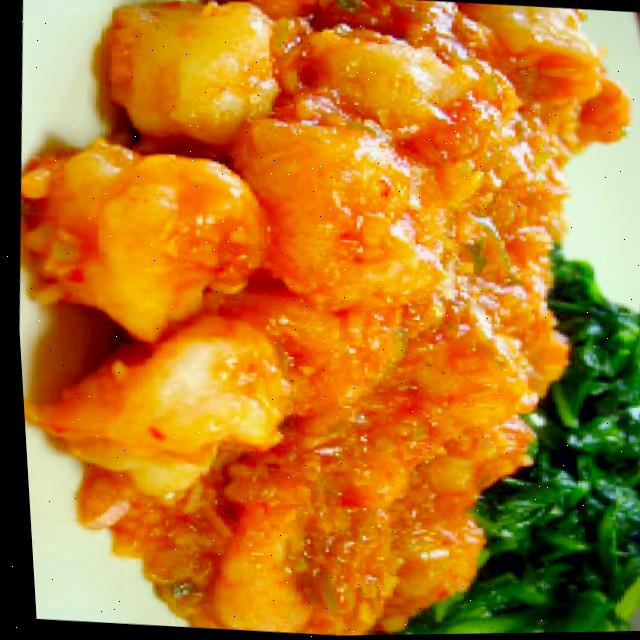熟制海鲜: (3, 0, 640, 640)
